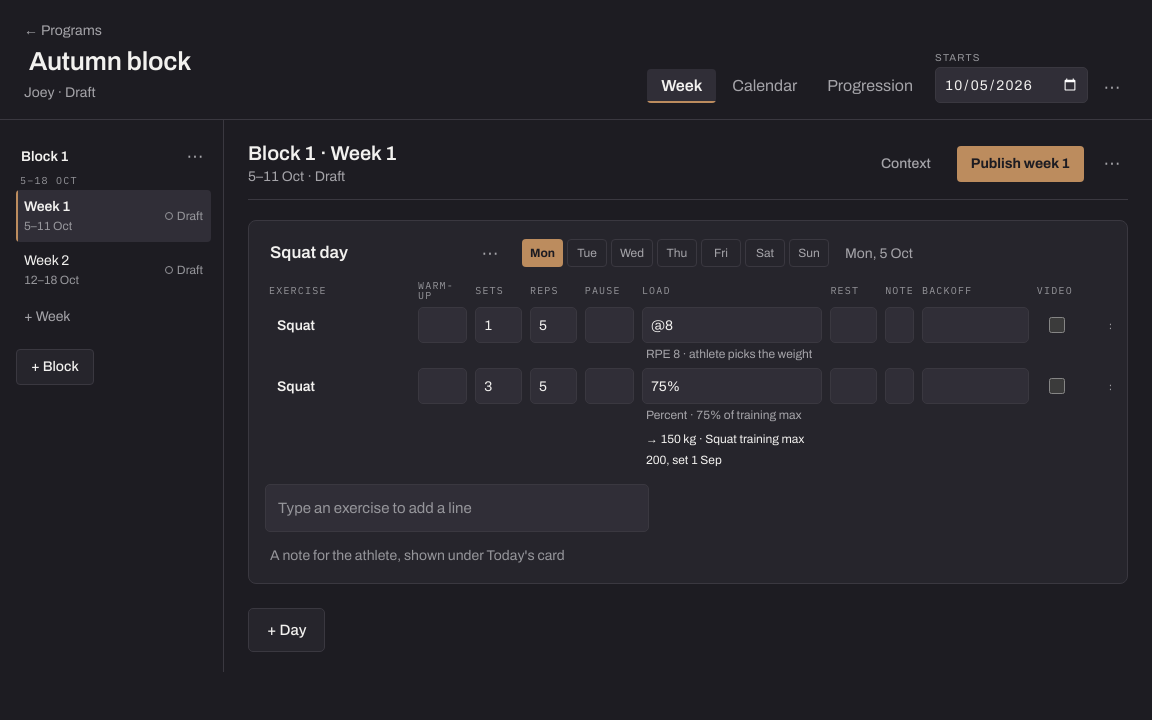
Test case: the context drawer › says when their sessions did not load, rather than showing an empty week
This screenshot has width=1152, height=720.
Click the button "Context".
click(906, 164)  # box [867,146,945,182]
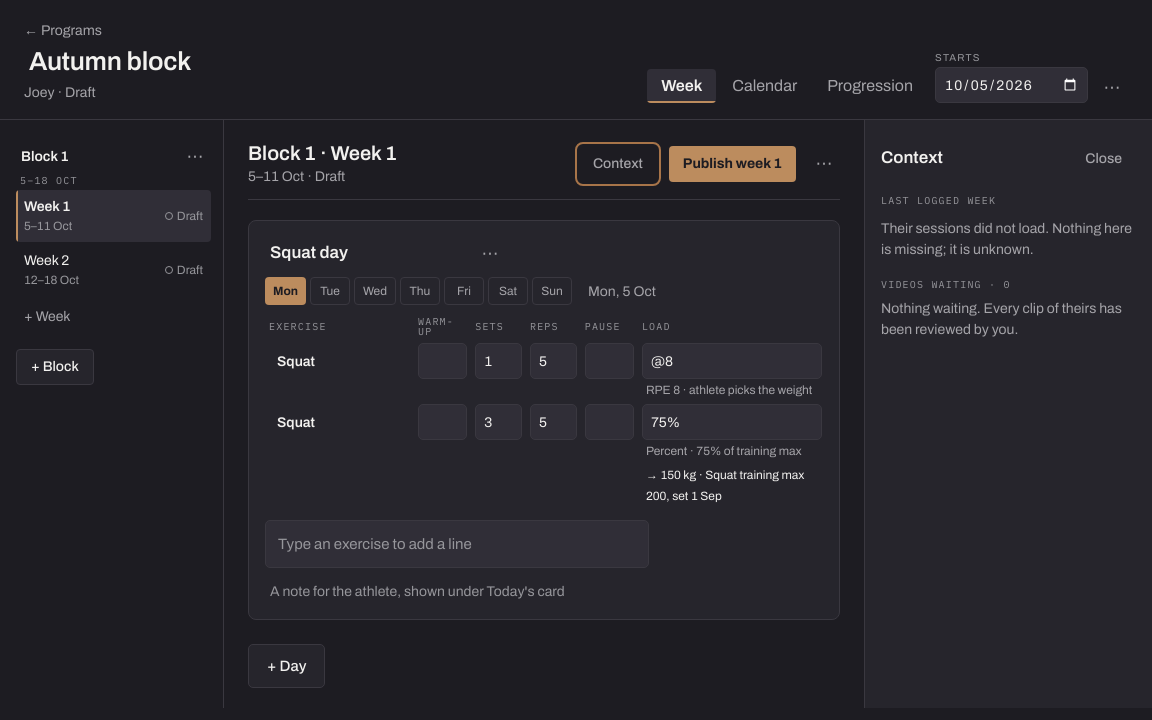
expect the text "Their sessions did not load. Nothing here is missing; it is unknown." is shown: met, box [881,218,1136,260]
